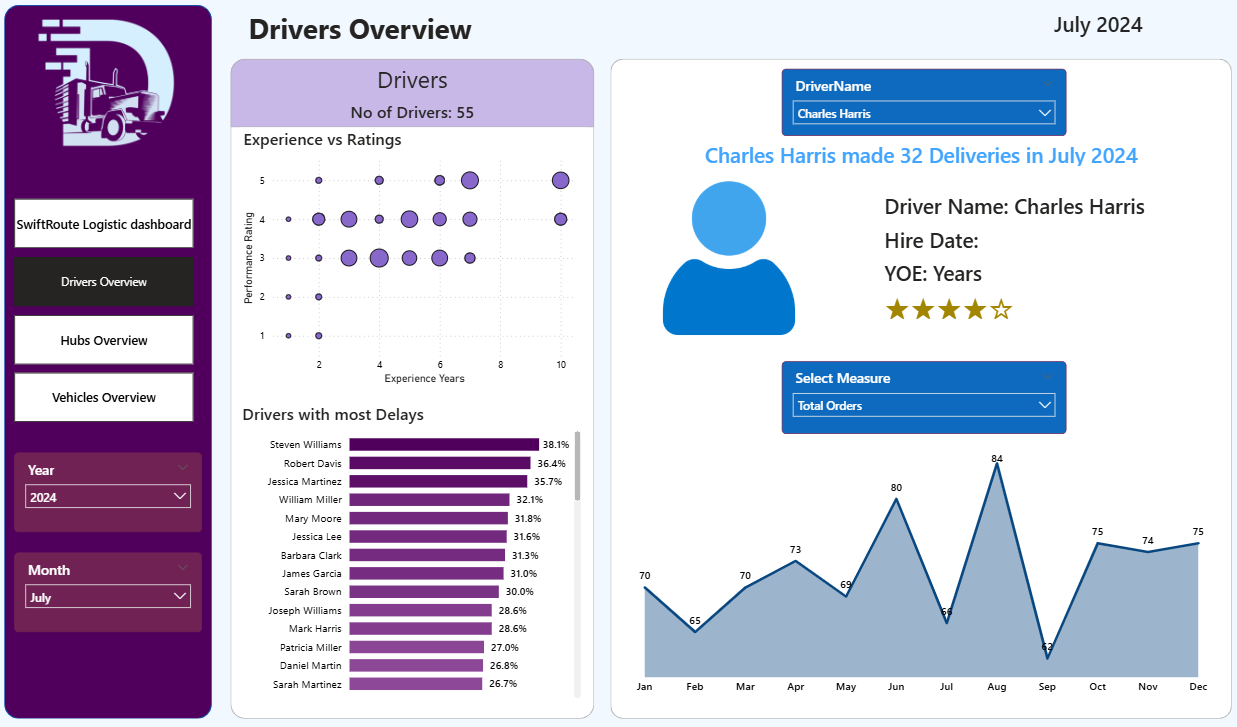

The page's visual inventory and layout, read from the dashboard file:
{"tool":"powerbi","page":{"name":"Drivers Overview","canvas":[1450,850],"ordinal":1},"visuals":[{"type":"shape","box":[13,11.5,239.6,824.3],"z":0},{"type":"textbox","box":[290.2,11.5,1140.5,73.6],"z":1000},{"type":"slicer","fields":{"Values":["Date Table.Year"]},"box":[24.5,528.4,216.5,92.4],"z":2000},{"type":"slicer","fields":{"Values":["Date Table.Month"]},"box":[24.5,643.9,216.5,92.4],"z":3000},{"type":"shape","box":[274.3,73.6,420.1,762.2],"z":4000},{"type":"shape","box":[274.3,73.6,420.1,79.4],"z":5000},{"type":"cardVisual","fields":{"Data":["Drivers.Count Of Driver ID"]},"box":[274.3,114,420.1,39],"z":6000},{"type":"textbox","box":[274.3,73.6,420.1,50.5],"z":7000},{"type":"scatterChart","title":"Experience vs Ratings","fields":{"Y":["Drivers.Performance Rating"],"X":["Drivers.Experience Years"],"Size":["Sum(Drivers.Experience Years)1"]},"box":[284.4,153,399.9,301.7],"z":8000},{"type":"barChart","title":"Drivers with most Delays","fields":{"Category":["Drivers.DriverName"],"Y":["Drivers.Delayed Delivery Rate"]},"box":[282.9,470.6,401.3,346.5],"z":9000},{"type":"image","box":[24.5,11.5,216.5,192],"z":10000},{"type":"cardVisual","fields":{"Data":["Orders.Year Month Value"]},"box":[1133.2,0,287.3,63.5],"z":11000},{"type":"shape","box":[713.1,73.6,717.5,762.2],"z":12000},{"type":"slicer","fields":{"Values":["Drivers.DriverName"]},"box":[910.9,85.2,329.1,78],"z":13000},{"type":"cardVisual","fields":{"Data":["Drivers.Drivers Title"]},"box":[724.7,164.6,695.8,39],"z":14000},{"type":"cardVisual","fields":{"Data":["Drivers.Driver Name Title","Drivers.Hire Date Title","Drivers.YOE","Drivers.Star Rating"]},"box":[1000.4,209.3,381.1,183.3],"z":15000},{"type":"image","box":[749.2,215.1,202.1,177.6],"z":16000},{"type":"areaChart","fields":{"Y":["Orders.Total Orders"],"Category":["Date Table.Month Abrr"]},"box":[724.7,516.8,695.8,300.3],"z":17000},{"type":"slicer","fields":{"Values":["Select Measure.Select Measure"]},"box":[910.9,423,329.1,83.7],"z":18000},{"type":"pageNavigator","box":[24.5,235.3,207.9,258.4],"z":18001}]}

Visuals, with their boxes in screenshot pixels (x1, y1, x2, y2), scaled from the page's 1450x850 canvas onto the 1237x727 screenshot:
shape: BBox(11, 10, 215, 715)
textbox: BBox(248, 10, 1221, 73)
slicer - Date Table.Year: BBox(21, 452, 206, 531)
slicer - Date Table.Month: BBox(21, 551, 206, 630)
shape: BBox(234, 63, 592, 715)
shape: BBox(234, 63, 592, 131)
cardVisual - Drivers.Count Of Driver ID: BBox(234, 98, 592, 131)
textbox: BBox(234, 63, 592, 106)
"Experience vs Ratings" scatterChart: BBox(243, 131, 584, 389)
"Drivers with most Delays" barChart: BBox(241, 403, 584, 699)
image: BBox(21, 10, 206, 174)
cardVisual - Orders.Year Month Value: BBox(967, 0, 1212, 54)
shape: BBox(608, 63, 1220, 715)
slicer - Drivers.DriverName: BBox(777, 73, 1058, 140)
cardVisual - Drivers.Drivers Title: BBox(618, 141, 1212, 174)
cardVisual - Drivers.Driver Name Title x Drivers.Hire Date Title: BBox(853, 179, 1179, 336)
image: BBox(639, 184, 812, 336)
areaChart - Orders.Total Orders x Date Table.Month Abrr: BBox(618, 442, 1212, 699)
slicer - Select Measure.Select Measure: BBox(777, 362, 1058, 433)
pageNavigator: BBox(21, 201, 198, 422)
